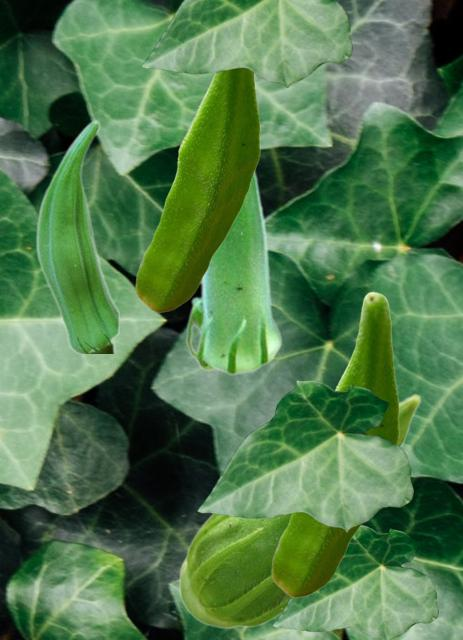okra: (178, 393, 421, 628), (271, 291, 398, 596), (135, 69, 259, 311), (185, 167, 282, 375), (35, 119, 118, 352)
